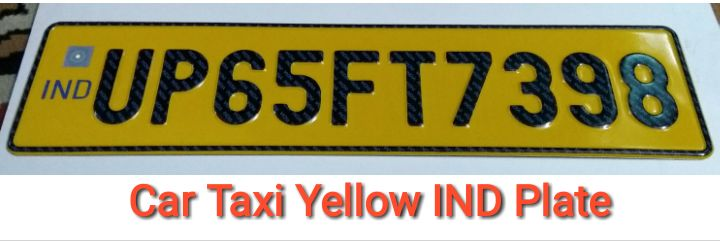number_plate: (10, 20, 711, 161)
